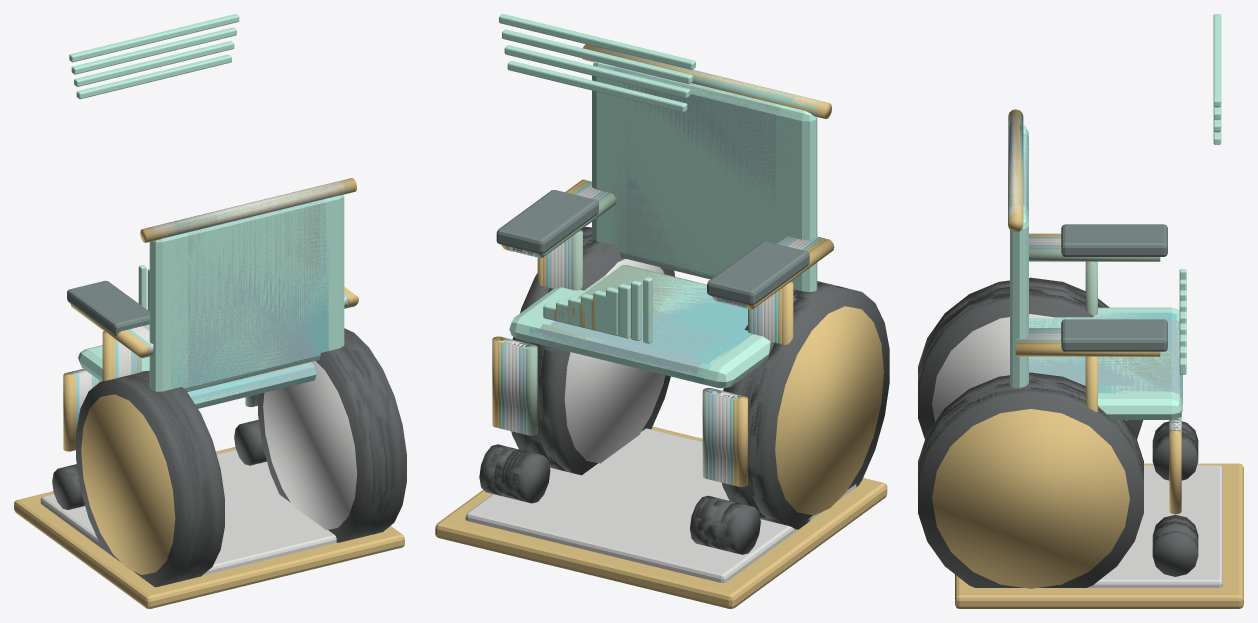
File: Gear16.fbx
3 views of the same model, side by side, from view 1: azimuth 30°, elevation 25°; view 2: azimuth 150°, elevation 25°; view 3: azimuth 270°, elevation 25° (orthographic). The views are drawn at different scales.
Visible parts, largest first — view 1: Gear16_V10_Gold, Gear16_V8_Glow, Gear16_V10_Glow, Gear16_V1_Chrome, Gear16_V10_Tyre, Gear16_V4_Chrome, Gear16_V2_Blue, Gear16_V1_Tyre, Gear16_V9_Gold, Gear16_V1_Blue, Gear16_V9_Glow, Gear16_V6_Aqua (+20 smaller); view 2: Gear16_V10_Glow, Gear16_V10_Gold, Gear16_V8_Chrome, Gear16_V9_Glow, Gear16_V10_Tyre, Gear16_V2_Blue, Gear16_V9_Gold, Gear16_V1_Chrome, Gear16_V1_Tyre, Gear16_V1_Blue, Gear16_V8_Glow, Gear16_V7_Chrome (+29 smaller); view 3: Gear16_V10_Gold, Gear16_V10_Tyre, Gear16_V10_Glow, Gear16_V1_Tyre, Gear16_V5_Chrome, Gear16_V1_Chrome, Gear16_V9_Gold, Gear16_V1_Ink, Gear16_V10_Ink, Gear16_V6_Chrome, Gear16_V1_Blue, Gear16_V1_Sage (+27 smaller).
Part boxes in pixels (box(x1,y1,x2,y2)): Gear16_V10_Gold: box(14, 178, 404, 608); Gear16_V8_Glow: box(74, 41, 334, 406); Gear16_V10_Glow: box(69, 14, 344, 403); Gear16_V1_Chrome: box(263, 361, 357, 530); Gear16_V10_Tyre: box(52, 328, 406, 587); Gear16_V4_Chrome: box(82, 183, 338, 565); Gear16_V2_Blue: box(94, 192, 332, 406); Gear16_V1_Tyre: box(142, 352, 379, 578); Gear16_V9_Gold: box(21, 179, 399, 607); Gear16_V1_Blue: box(187, 202, 312, 403); Gear16_V9_Glow: box(71, 27, 337, 406); Gear16_V6_Aqua: box(143, 219, 328, 408); Gear16_V10_Glow: box(499, 14, 817, 388); Gear16_V10_Gold: box(435, 44, 887, 608); Gear16_V8_Chrome: box(475, 428, 781, 575); Gear16_V9_Glow: box(502, 29, 799, 387); Gear16_V10_Tyre: box(479, 227, 889, 554); Gear16_V2_Blue: box(521, 67, 798, 479); Gear16_V9_Gold: box(441, 46, 880, 602); Gear16_V1_Chrome: box(564, 259, 665, 463); Gear16_V1_Tyre: box(511, 244, 747, 546); Gear16_V1_Blue: box(545, 73, 775, 372); Gear16_V8_Glow: box(504, 45, 795, 342); Gear16_V7_Chrome: box(478, 48, 818, 572); Gear16_V10_Gold: box(932, 109, 1243, 608); Gear16_V10_Tyre: box(918, 277, 1198, 587); Gear16_V10_Glow: box(1010, 14, 1221, 419); Gear16_V1_Tyre: box(918, 292, 1198, 536); Gear16_V5_Chrome: box(1008, 117, 1222, 573); Gear16_V1_Chrome: box(932, 314, 1126, 421); Gear16_V9_Gold: box(955, 112, 1243, 596); Gear16_V1_Ink: box(1061, 239, 1167, 326); Gear16_V10_Ink: box(1061, 224, 1167, 351); Gear16_V6_Chrome: box(1008, 116, 1222, 573); Gear16_V1_Blue: box(1023, 152, 1172, 385); Gear16_V1_Sage: box(1008, 125, 1181, 420).
Bounding box in the file's own units: 84 × 141 × 85.69.
